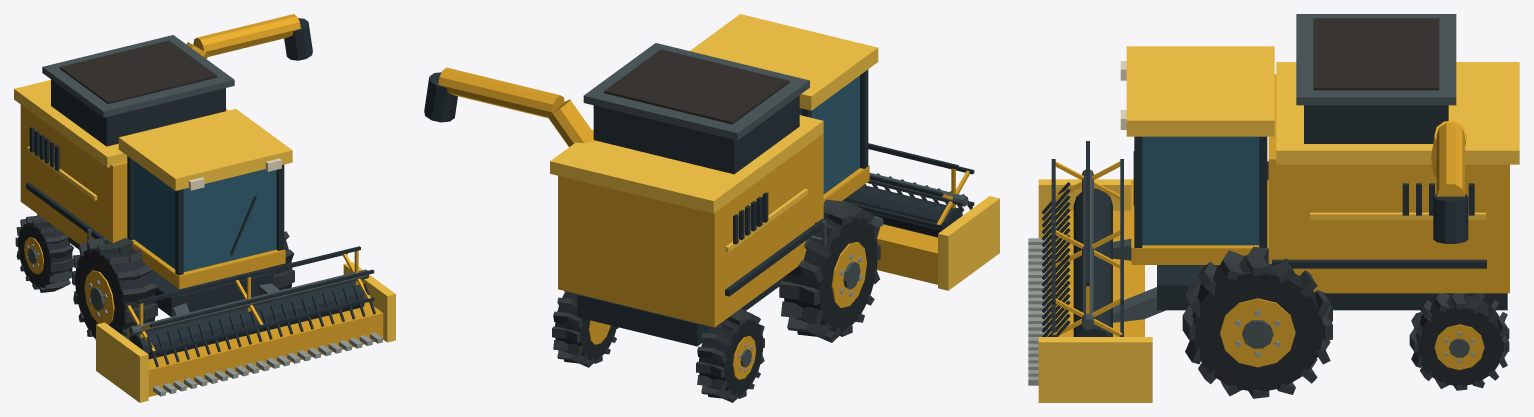
Rendered from combine_harvester.glb.
The picture shows the model from 3 angles, left to right: view 1: azimuth 30°, elevation 25°; view 2: azimuth 150°, elevation 25°; view 3: azimuth 270°, elevation 25°; orthographic projection. The views are drawn at different scales.
Parts seen in each view (by area): view 1: body__yellow2.002, body__glass.001, body__dark.002, body__yellow.001, header__yellow, header__dark, body__black, body__metal.002, header__yellow2, header_reel__dark, drive_wheel_-1__rubber, drive_wheel_-1__tread (+11 smaller); view 2: body__yellow.001, body__yellow2.002, body__dark.002, body__black, body__metal.002, unloading_auger__yellow, drive_wheel_-1__rubber, drive_wheel_-1__tread, header__yellow2, body__glass.001, header__dark, header__yellow (+9 smaller); view 3: body__yellow.001, body__yellow2.002, body__dark.002, body__glass.001, header__yellow2, body__black, drive_wheel_1__rubber, body__metal.002, header__dark, drive_wheel_1__tread, steer_wheel_1__rubber, drive_wheel_1__yellow (+10 smaller).
Part boxes in pixels (left/top/right/bottom): body__yellow2.002: left=14, top=80, right=292, bottom=200; body__glass.001: left=134, top=161, right=276, bottom=271; body__dark.002: left=26, top=79, right=284, bottom=316; body__yellow.001: left=20, top=104, right=285, bottom=289; header__yellow: left=128, top=302, right=383, bottom=396; header__dark: left=129, top=281, right=375, bottom=367; body__black: left=59, top=40, right=217, bottom=104; body__metal.002: left=42, top=35, right=279, bottom=316; header__yellow2: left=96, top=262, right=395, bottom=402; header_reel__dark: left=124, top=246, right=374, bottom=354; drive_wheel_-1__rubber: left=75, top=247, right=155, bottom=339; drive_wheel_-1__tread: left=72, top=237, right=157, bottom=338; body__yellow.001: left=558, top=133, right=869, bottom=327; body__yellow2.002: left=550, top=14, right=878, bottom=252; body__dark.002: left=577, top=69, right=868, bottom=346; body__black: left=604, top=49, right=789, bottom=124; body__metal.002: left=583, top=43, right=883, bottom=246; unloading_auger__yellow: left=438, top=67, right=594, bottom=146; drive_wheel_-1__rubber: left=783, top=217, right=877, bottom=331; drive_wheel_-1__tread: left=779, top=199, right=880, bottom=342; header__yellow2: left=938, top=196, right=999, bottom=290; body__glass.001: left=799, top=75, right=859, bottom=193; header__dark: left=843, top=173, right=972, bottom=237; header__yellow: left=877, top=224, right=937, bottom=284; body__yellow.001: left=1131, top=74, right=1509, bottom=293; body__yellow2.002: left=1126, top=46, right=1519, bottom=219; body__dark.002: left=1133, top=105, right=1507, bottom=310; body__glass.001: left=1142, top=136, right=1259, bottom=245; header__yellow2: left=1038, top=179, right=1152, bottom=402; body__black: left=1313, top=18, right=1439, bottom=90; drive_wheel_1__rubber: left=1192, top=255, right=1323, bottom=391; body__metal.002: left=1113, top=14, right=1456, bottom=322; header__dark: left=1042, top=182, right=1112, bottom=336; drive_wheel_1__tread: left=1182, top=246, right=1332, bottom=398; steer_wheel_1__rubber: left=1416, top=295, right=1503, bottom=385; drive_wheel_1__yellow: left=1220, top=298, right=1295, bottom=367.
Bounding box in the file's own units: 4.52 × 2.93 × 4.48.
